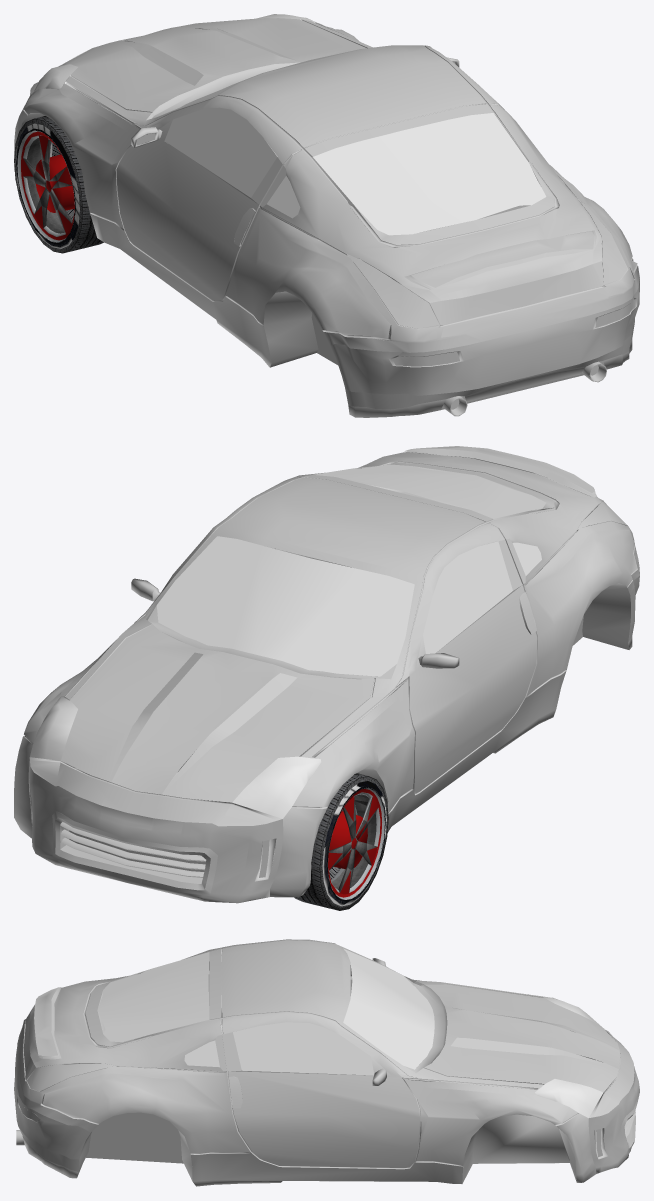
The model's file is 350 sports.fbx.
3 renders of one model, top to bottom at view 1: azimuth 30°, elevation 25°; view 2: azimuth 150°, elevation 25°; view 3: azimuth 270°, elevation 25°, orthographic. The views are drawn at different scales.
Parts seen in each view (by area): view 1: 350 sports body, 350 sports glass, 350 sports interior, 350 sports tire; view 2: 350 sports body, 350 sports glass, 350 sports interior, 350 sports tire; view 3: 350 sports body, 350 sports glass, 350 sports interior.
Part boxes in pixels (box(x1,y1,x2,y2)): 350 sports body: box(14, 18, 639, 417); 350 sports glass: box(31, 14, 546, 235); 350 sports interior: box(21, 62, 635, 416); 350 sports tire: box(14, 116, 103, 253); 350 sports body: box(14, 446, 639, 903); 350 sports glass: box(30, 464, 545, 818); 350 sports interior: box(29, 462, 630, 883); 350 sports tire: box(294, 773, 388, 910); 350 sports body: box(14, 939, 639, 1186); 350 sports glass: box(97, 948, 603, 1117); 350 sports interior: box(16, 969, 635, 1183).
Bounding box in the file's own units: 267 × 189 × 580.
